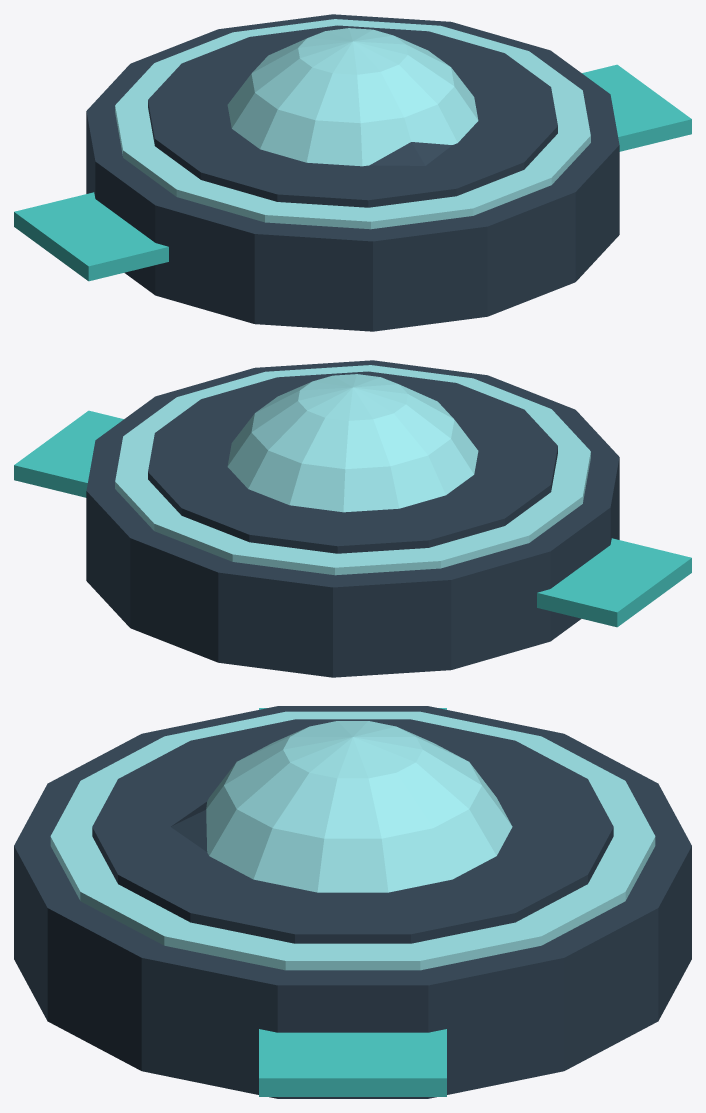
The model's file is WindSentinel.glb.
The picture shows the model from 3 angles, top to bottom: view 1: azimuth 30°, elevation 25°; view 2: azimuth 150°, elevation 25°; view 3: azimuth 270°, elevation 25°; orthographic projection. The views are drawn at different scales.
Visible parts, largest first — view 1: Dark.027, Dark.028, UranusCyan, UranusCyan.001, Teal.001, Teal.002, Dark.029; view 2: Dark.027, Dark.028, UranusCyan, UranusCyan.001, Teal.001, Teal.002; view 3: Dark.027, Dark.028, UranusCyan, UranusCyan.001, Teal.002, Dark.029.
Part boxes in pixels (x1,y1,x2,y2): Dark.027: [86, 14, 619, 331]; Dark.028: [148, 25, 557, 207]; UranusCyan: [227, 28, 478, 166]; UranusCyan.001: [115, 19, 590, 229]; Teal.001: [14, 192, 168, 281]; Teal.002: [582, 64, 691, 151]; Dark.029: [370, 142, 451, 165]; Dark.027: [86, 360, 619, 677]; Dark.028: [148, 371, 557, 553]; UranusCyan: [227, 374, 478, 512]; UranusCyan.001: [115, 365, 590, 575]; Teal.001: [537, 538, 691, 627]; Teal.002: [14, 410, 123, 497]; Dark.027: [14, 706, 691, 1098]; Dark.028: [92, 719, 613, 943]; UranusCyan: [206, 721, 512, 892]; UranusCyan.001: [50, 711, 655, 970]; Teal.002: [259, 1029, 446, 1096]; Dark.029: [171, 802, 207, 851].
Bounding box in the file's own units: 1.68 × 0.7 × 1.3.
